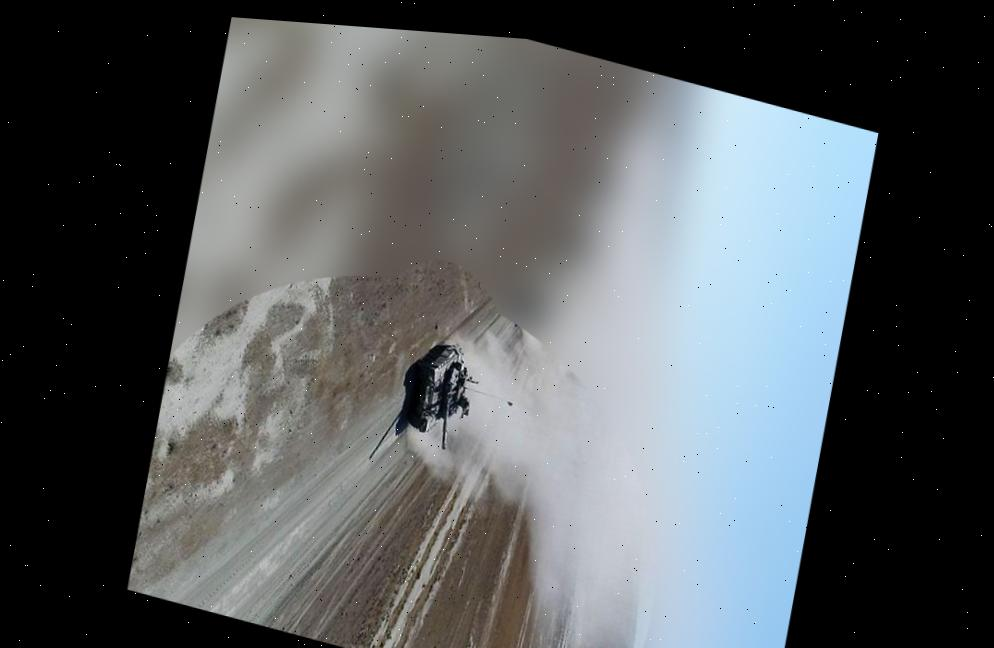tank: (399, 333, 484, 457)
